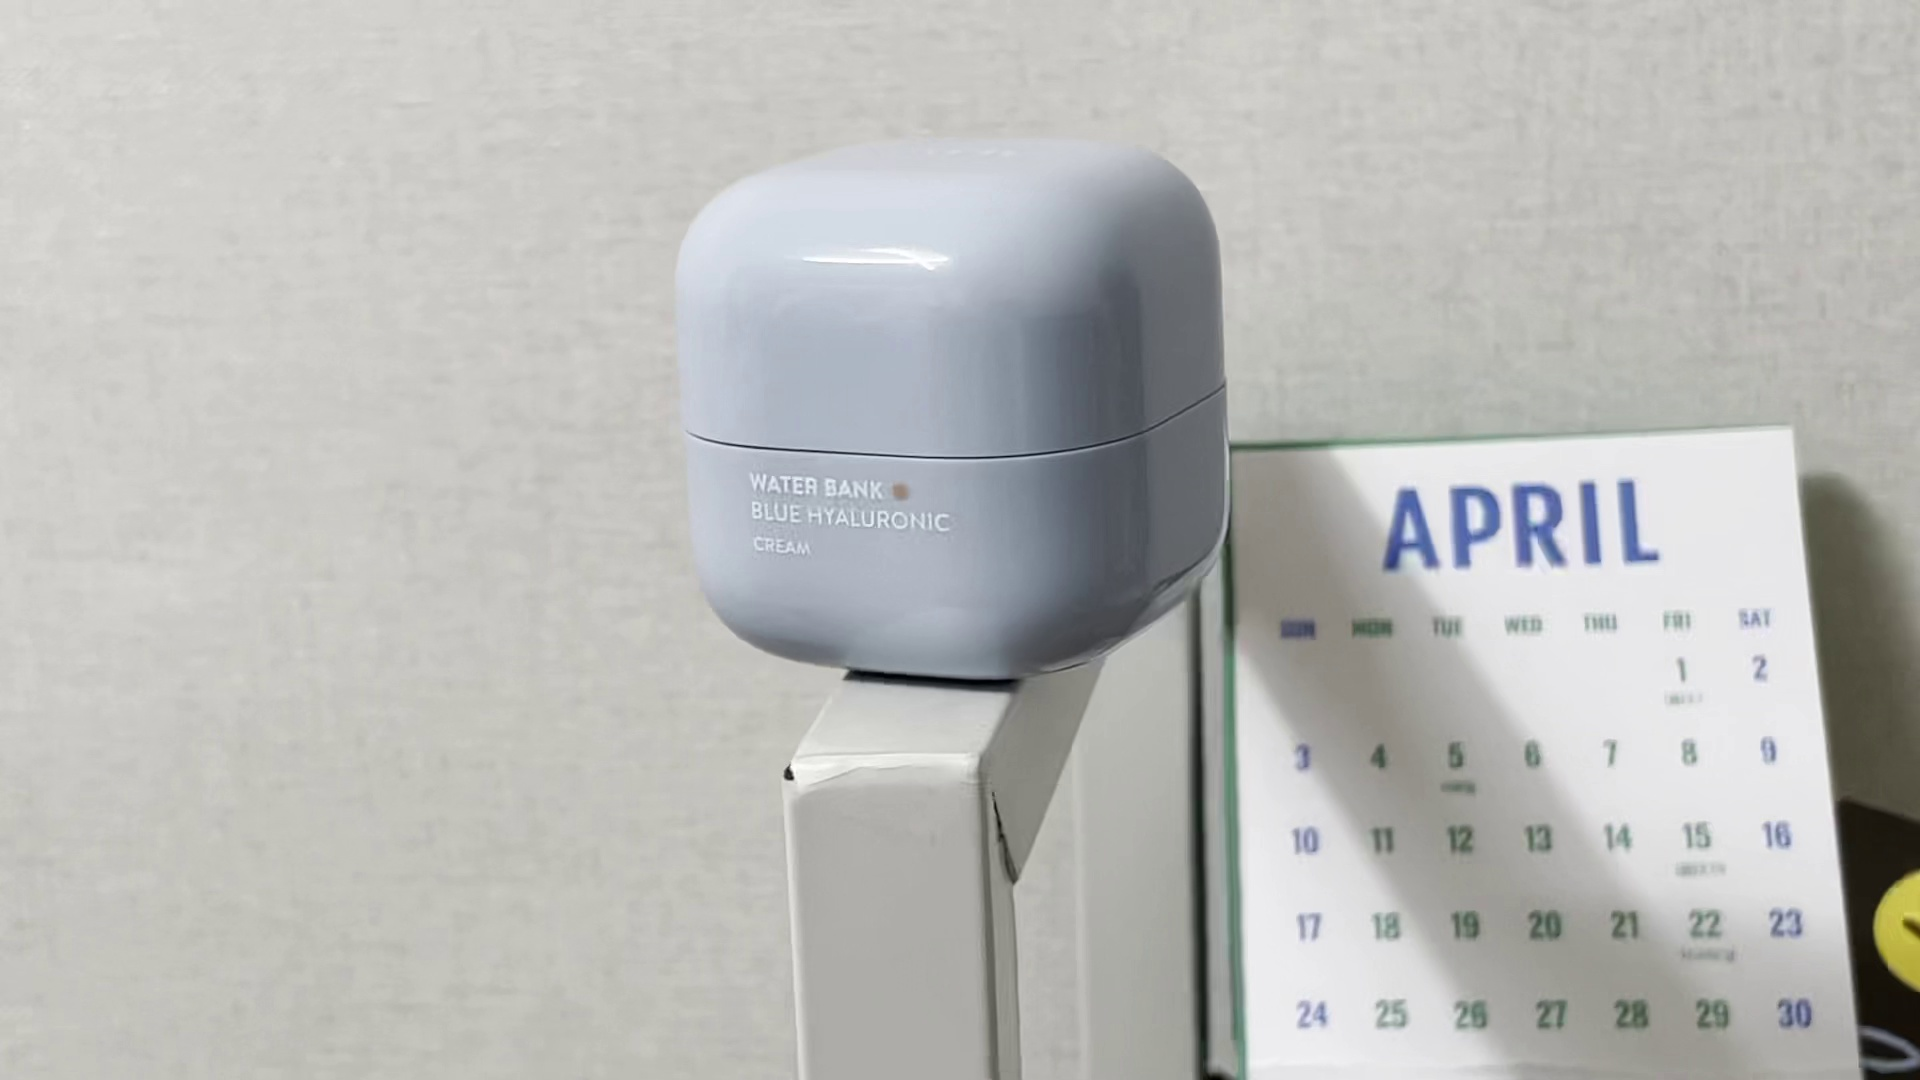cream: (676, 123, 1228, 686)
